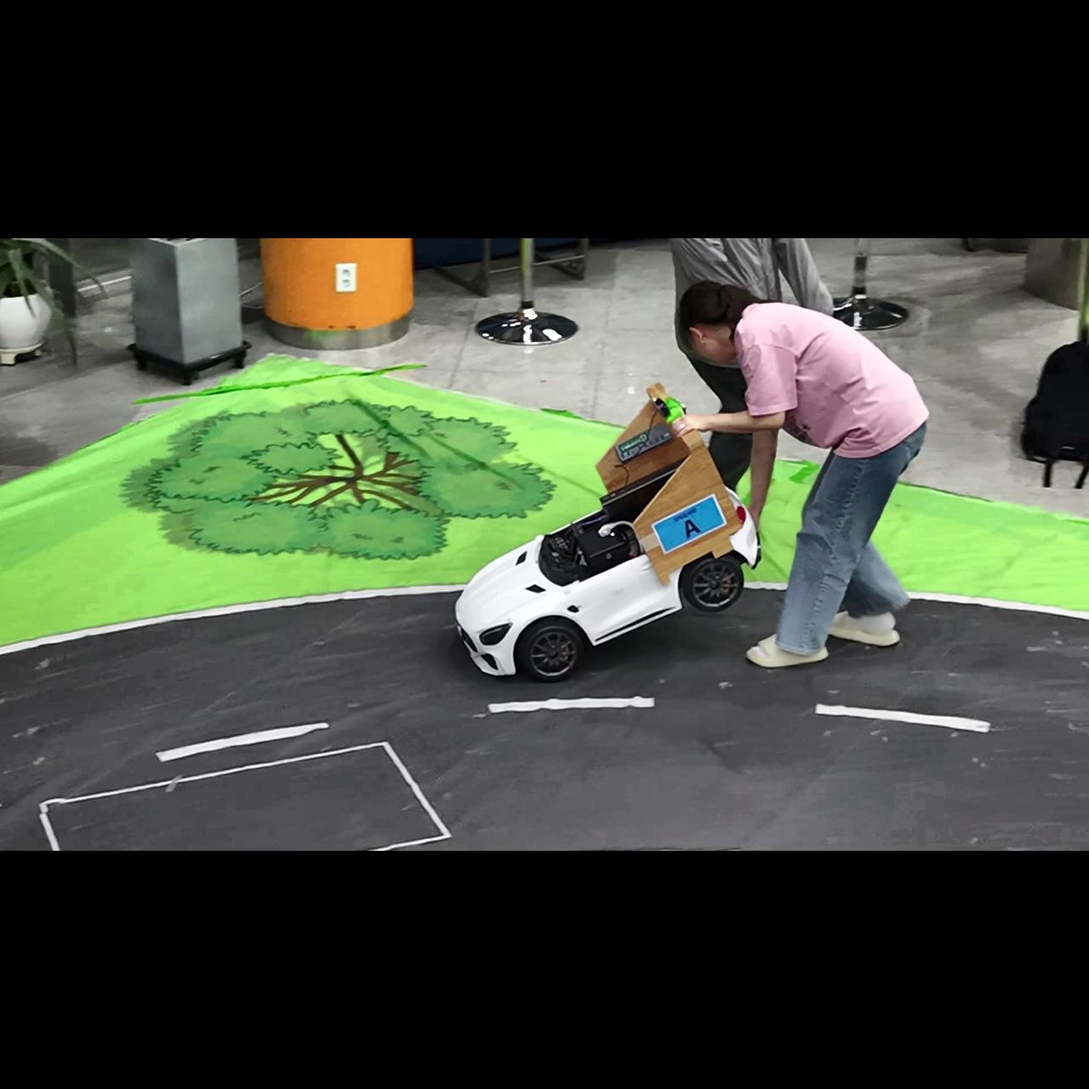broken_line: (155, 722, 330, 763), (815, 704, 991, 733), (487, 696, 655, 713)
